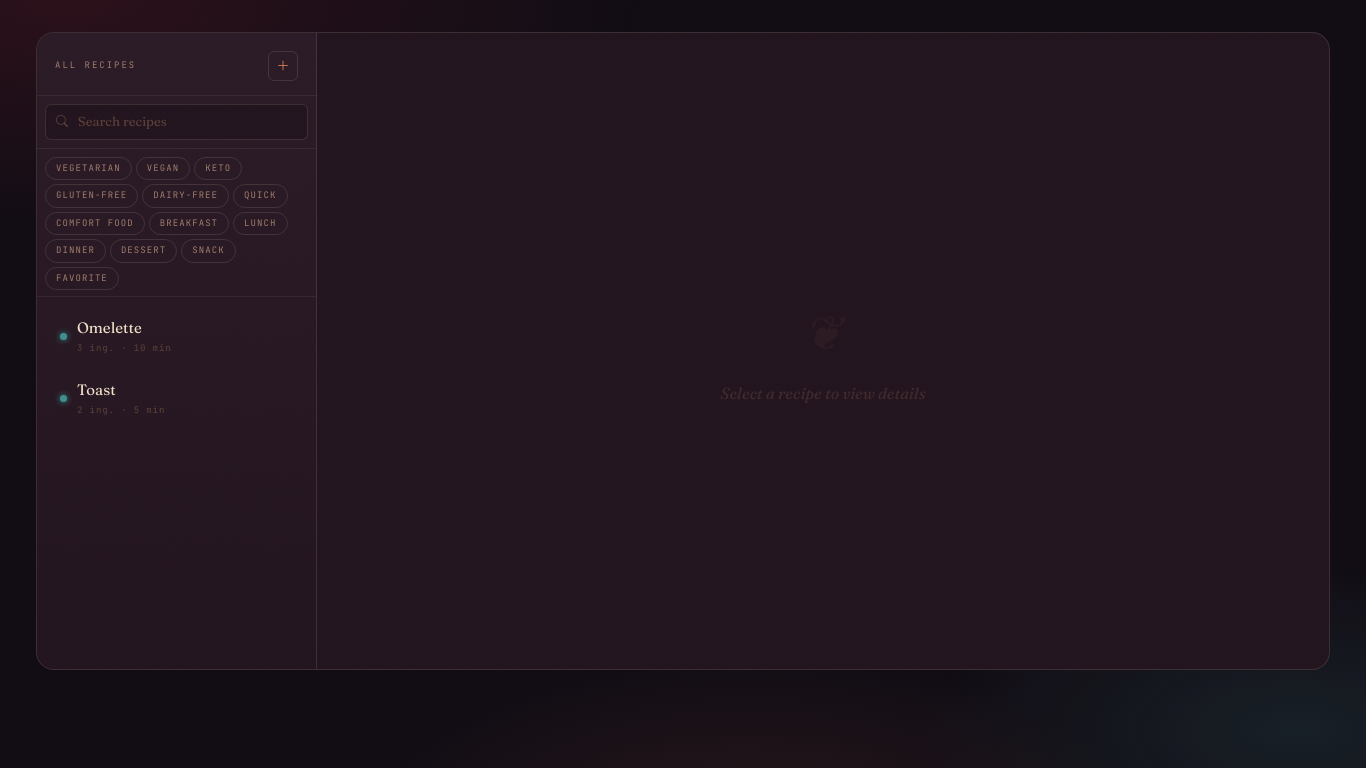
Test: deleting a recipe › clears the detail panel after deleting the selected recipe
Click the text "Omelette" at (109, 328), box [77, 318, 142, 337]
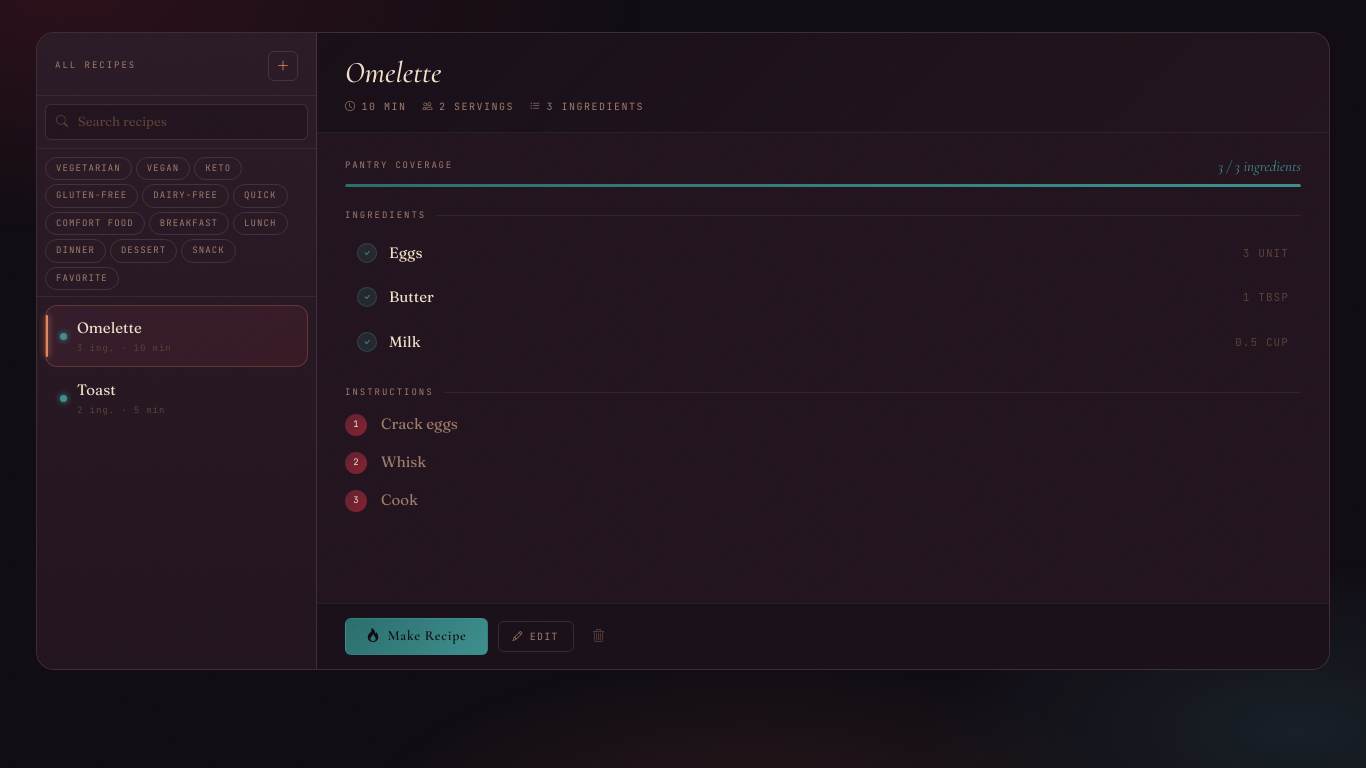
Click the button titled "Delete recipe" at (599, 636), box [584, 622, 614, 652]
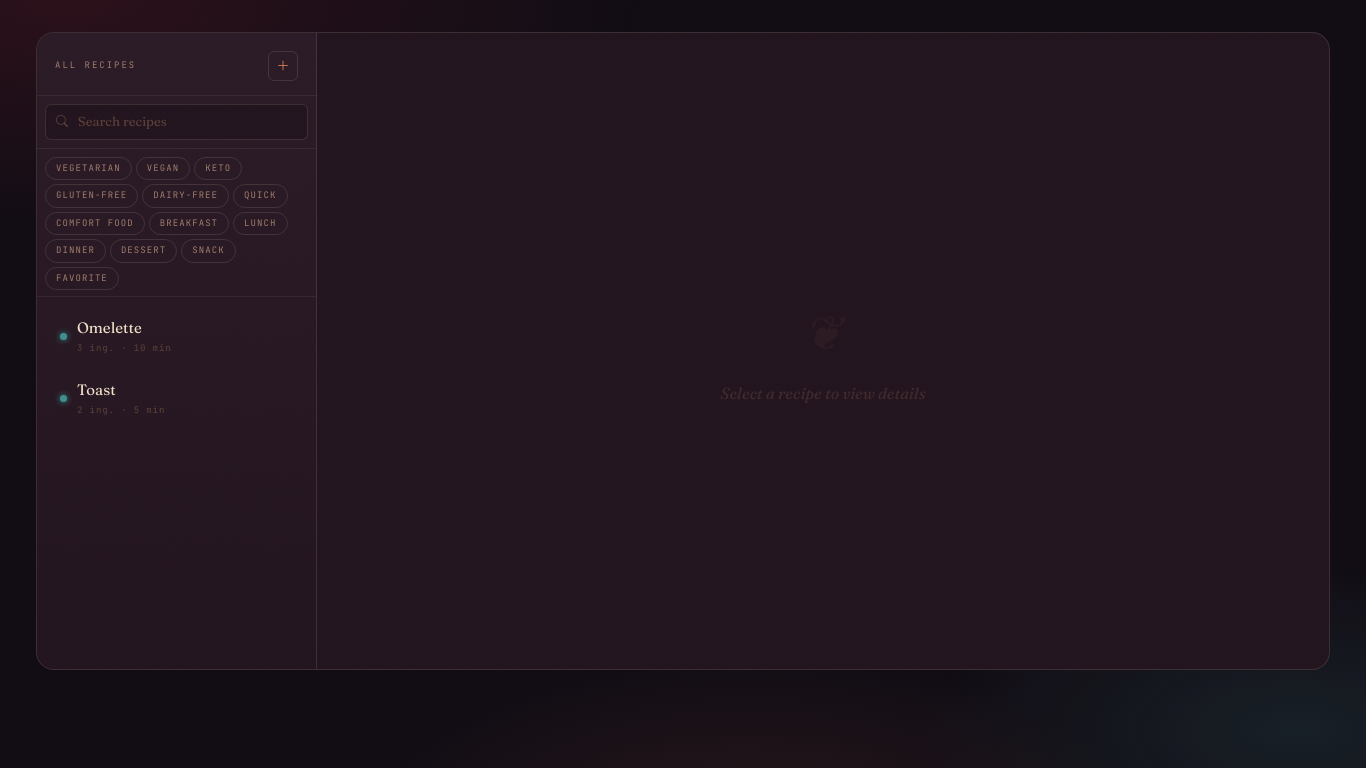
Expected: the text "Select a recipe to view details" is shown, [720, 381, 926, 405]
